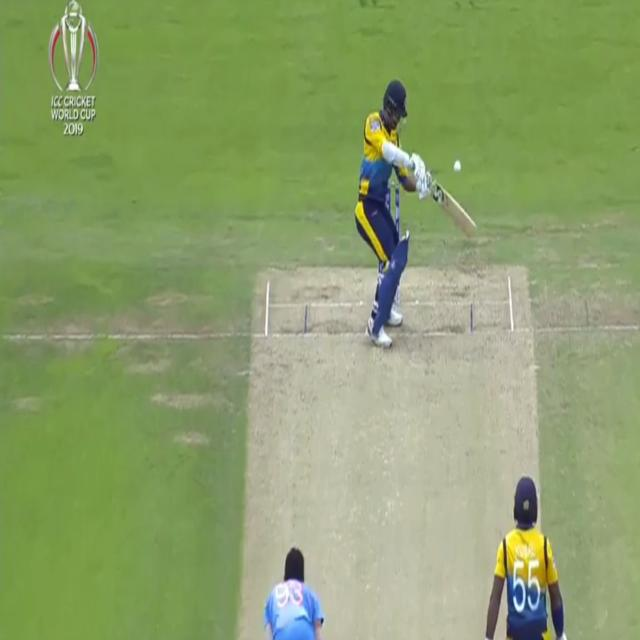Cricket ball: (452, 154, 464, 178)
